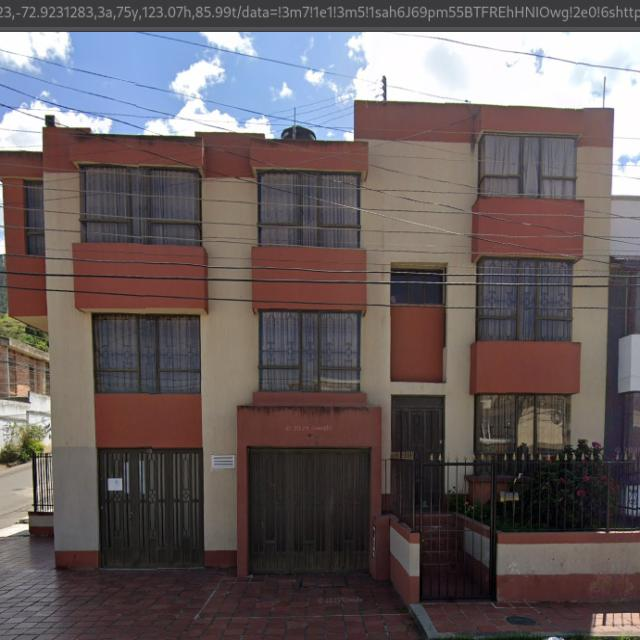Casa: (0, 100, 612, 602), (0, 315, 50, 445)
